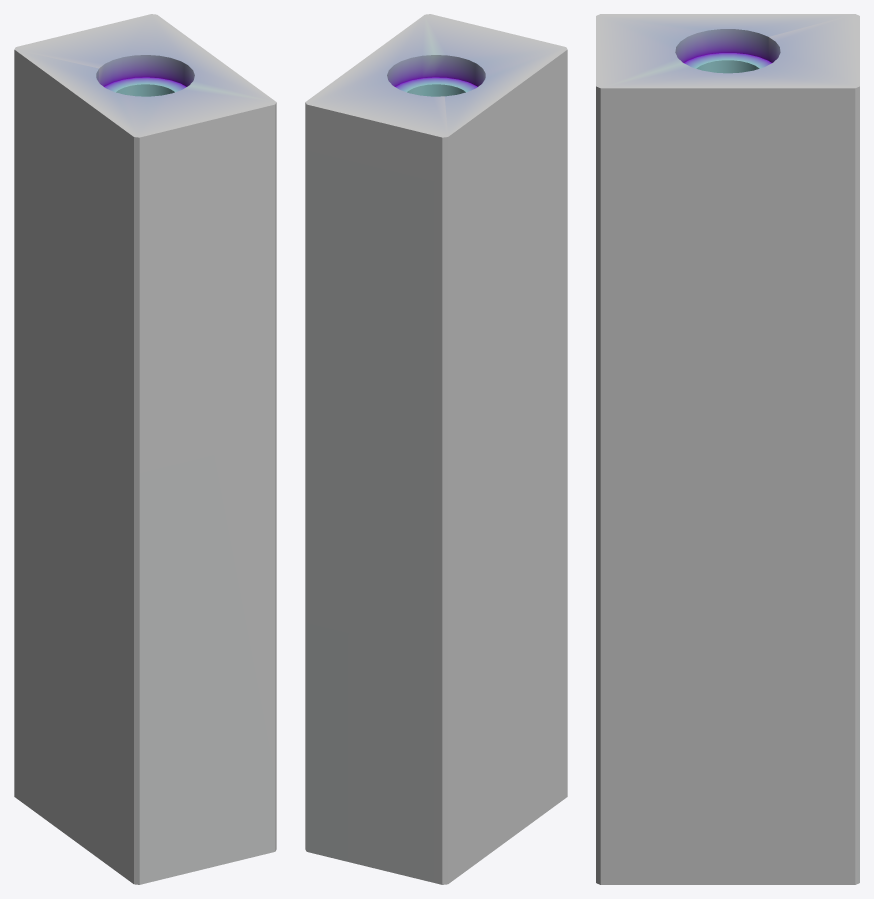
The model's file is zero-to-cad-cbe058b4-358b-eafe-50eb-75f42ee2264b.glb.
3 views of the same model, side by side, from view 1: azimuth 30°, elevation 25°; view 2: azimuth 150°, elevation 25°; view 3: azimuth 270°, elevation 25° (orthographic). The views are drawn at different scales.
Visible parts, largest first — view 1: Rail; view 2: Rail; view 3: Rail.
Boxes of the visible parts, bbox=[...] form: Rail: bbox=[14, 14, 276, 884]; Rail: bbox=[305, 14, 567, 884]; Rail: bbox=[596, 14, 859, 884].
Bounding box in the file's own units: 0.02 × 0.1 × 0.03.
